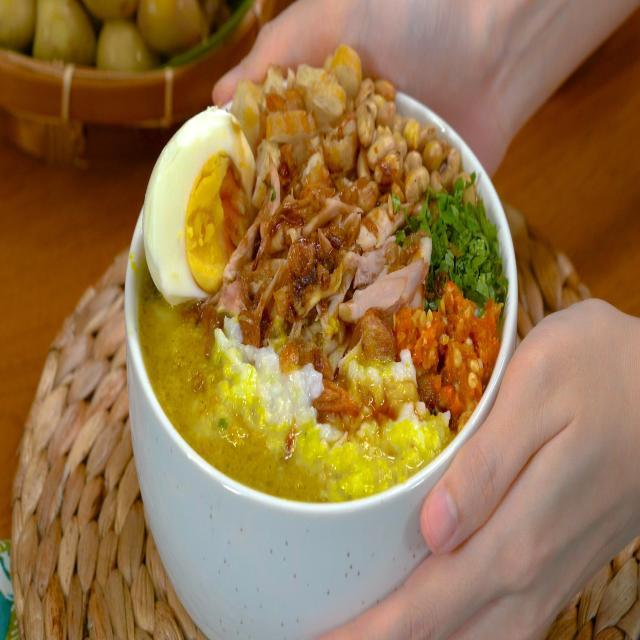bubur ayam: (140, 44, 508, 500)
mangkuk: (124, 51, 520, 633), (0, 0, 271, 164)
sambal: (390, 278, 504, 431)
telur rebus: (141, 105, 258, 306)
